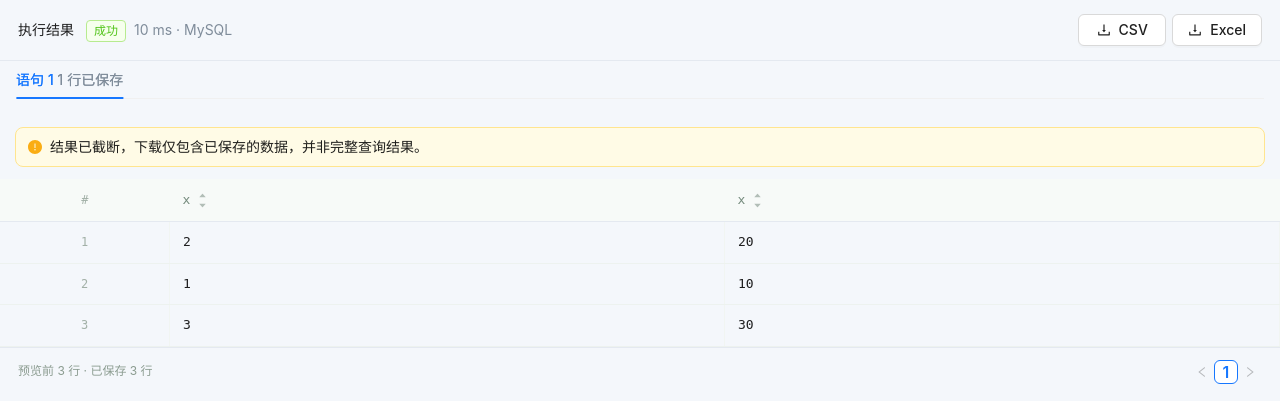
Test: 结果展示 › 列名依次倒序、正序、取消，重复列名使用列位置
Check: the text "20" is shown, box [738, 234, 754, 249]
Click the 1st button "x" at (195, 200), box [183, 190, 207, 210]
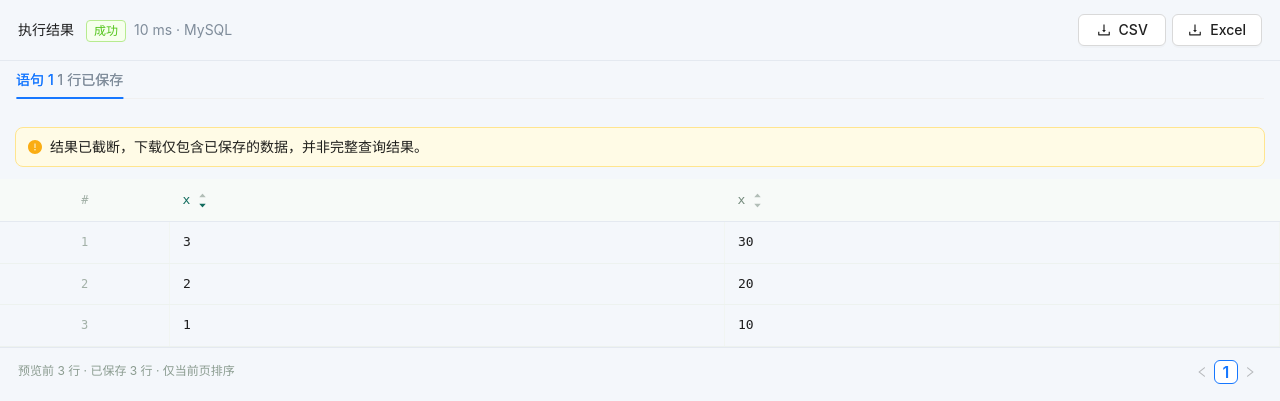
Check: the text "3" is shown, box [183, 234, 191, 249]
Click the 1st button "x" at (195, 200), box [183, 190, 207, 210]
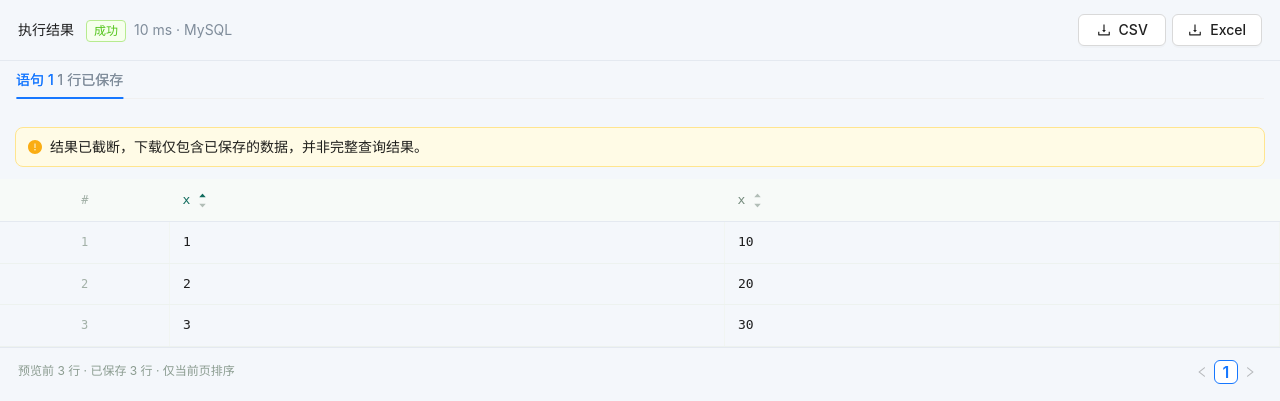
Check: the text "1" is shown, box [183, 234, 191, 249]
Click the 1st button "x" at (195, 200), box [183, 190, 207, 210]
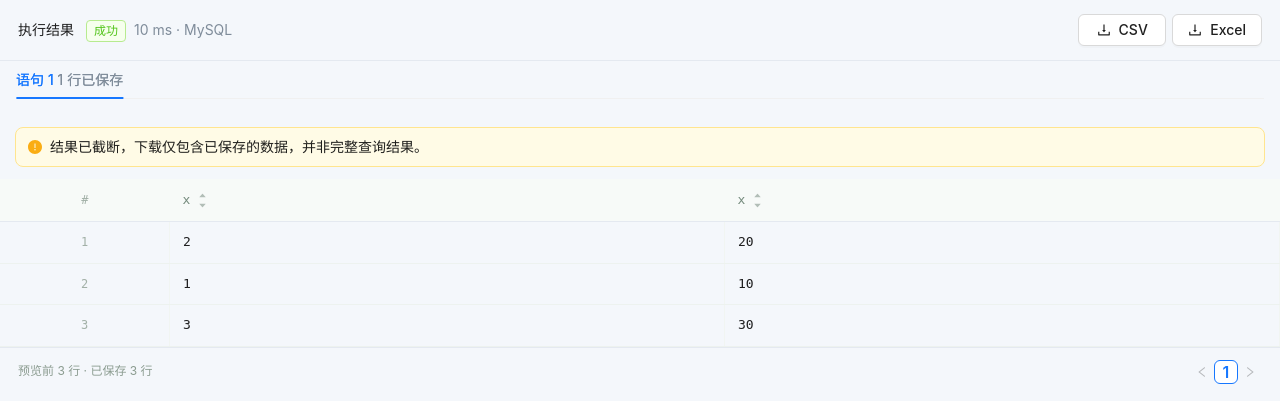
Check: the text "2" is shown, box [183, 234, 191, 249]
Click the 2nd button "x" at (750, 200), box [738, 190, 762, 210]
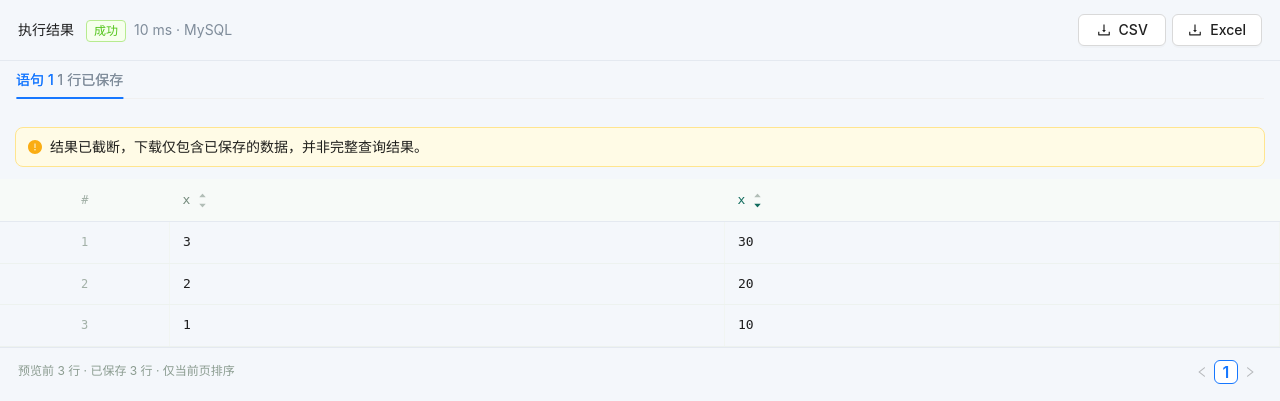
Check: the text "20" reads "30", box [738, 234, 754, 249]
